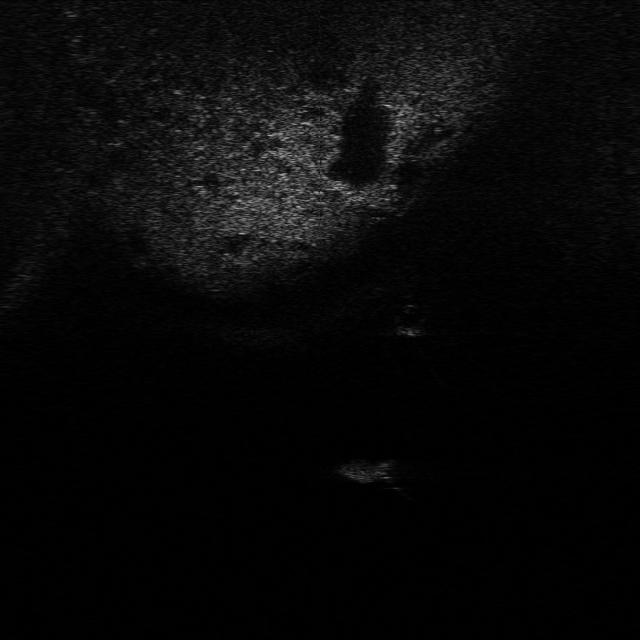ball: (393, 301, 432, 336)
cube: (340, 452, 400, 486)
